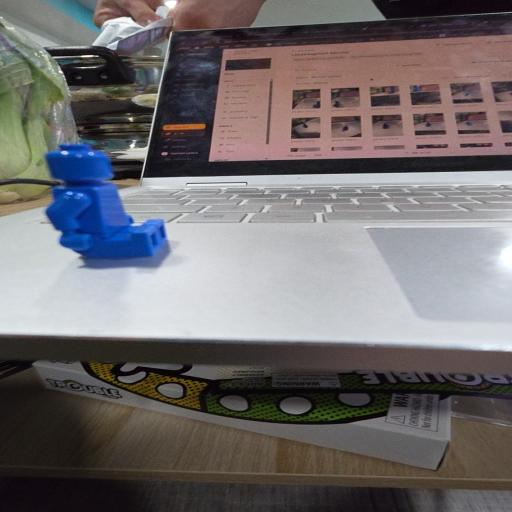Blue: (46, 144, 166, 258)
